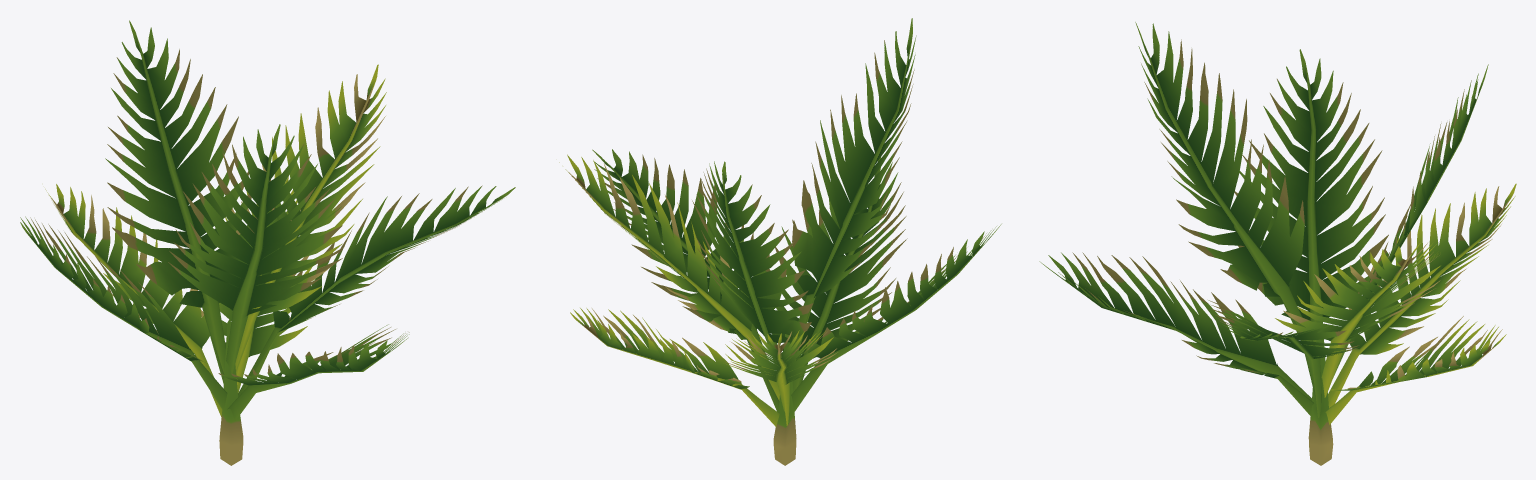
Rendered from SM_Env_Tree_Palm_Sapling_03.fbx.
The picture shows the model from 3 angles, left to right: view 1: azimuth 30°, elevation 25°; view 2: azimuth 150°, elevation 25°; view 3: azimuth 270°, elevation 25°; orthographic projection. The views are drawn at different scales.
Parts seen in each view (by area): view 1: SM_Env_Tree_Palm_Sapling_03_LOD0; view 2: SM_Env_Tree_Palm_Sapling_03_LOD0; view 3: SM_Env_Tree_Palm_Sapling_03_LOD0.
Boxes of the visible parts, <box> form: SM_Env_Tree_Palm_Sapling_03_LOD0: <box>20,20,515,465</box>; SM_Env_Tree_Palm_Sapling_03_LOD0: <box>559,18,1001,465</box>; SM_Env_Tree_Palm_Sapling_03_LOD0: <box>1039,22,1516,465</box>.
Size of what is drawn, in the model's own units: 219 by 188 by 194.
